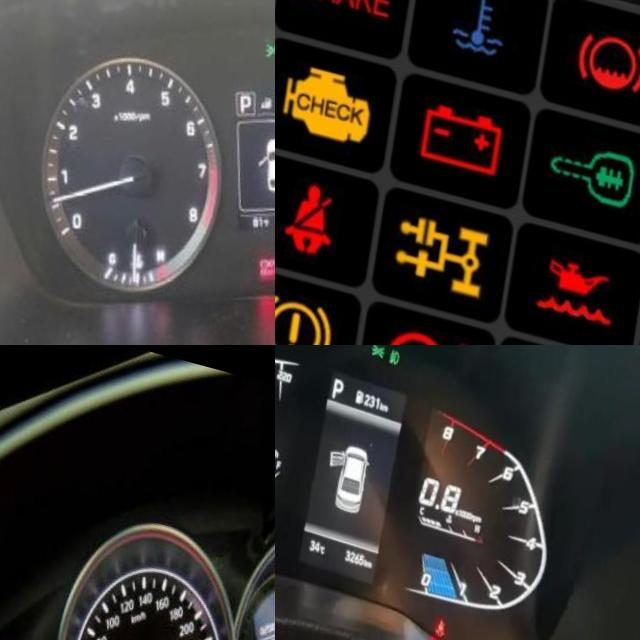Electronic Power Steering: (393, 307, 486, 345)
Seat Belt: (448, 594, 462, 615)
